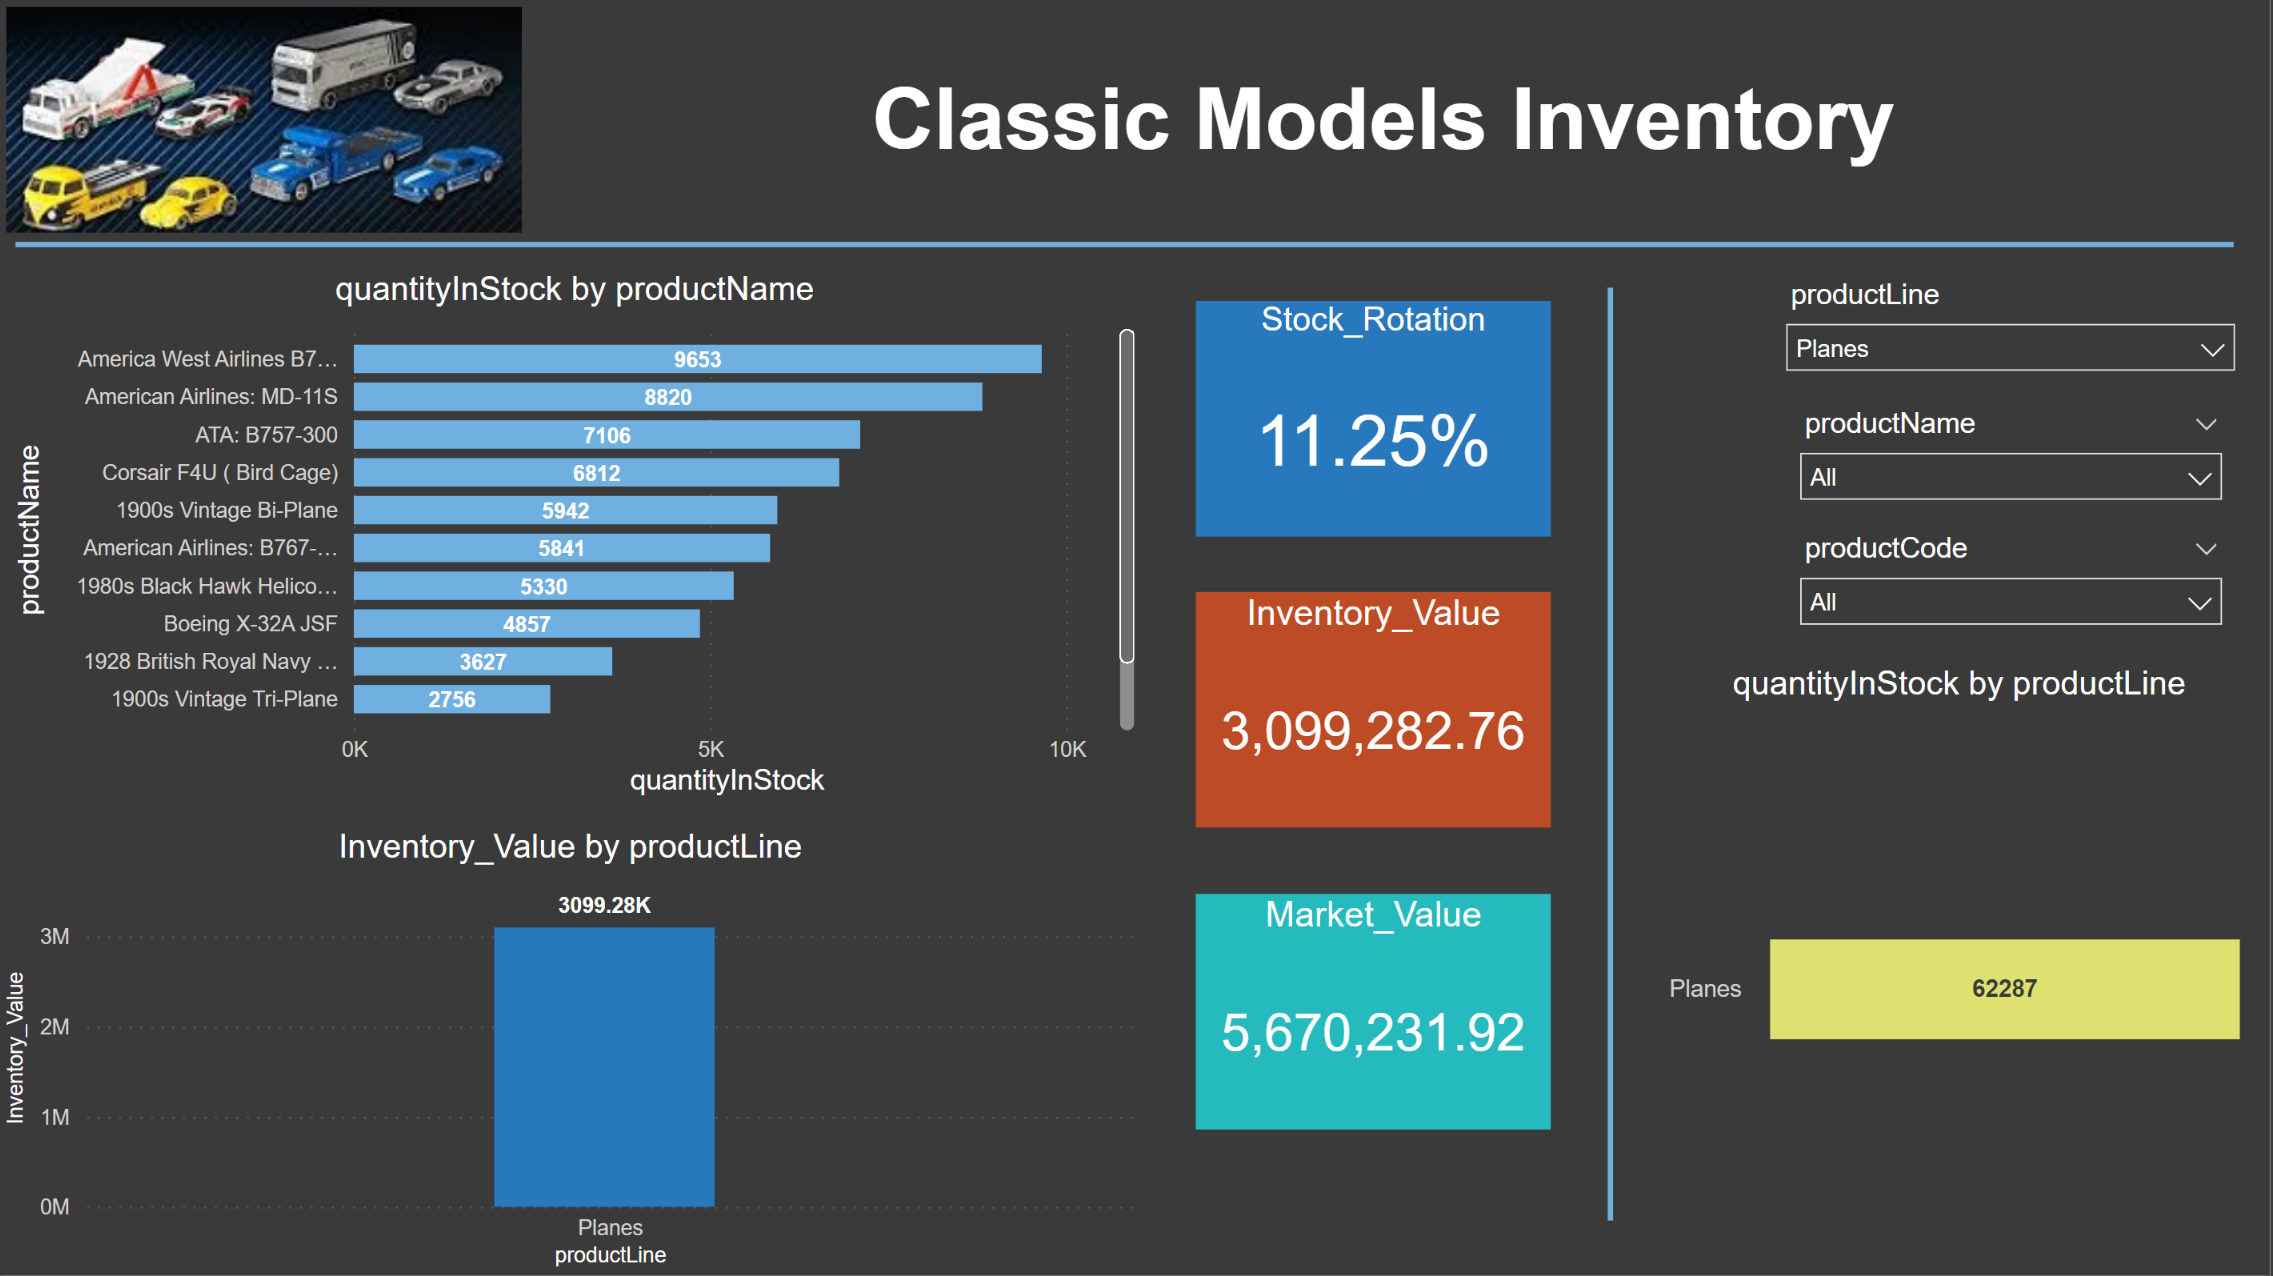

This screenshot's page, from the dashboard's own definition file:
{"tool":"powerbi","page":{"name":"Scenario1","canvas":[1280,720],"ordinal":0},"visuals":[{"type":"textbox","box":[306.3,36.6,948.2,88.3],"z":0},{"type":"image","box":[0,0,300.4,137.4],"z":1000},{"type":"funnel","fields":{"Y":["Sum(Products.quantityInStock)"],"Category":["Products.productLine"]},"box":[937.1,376.3,336.4,343.6],"z":2000},{"type":"basicShape","box":[0,125,1269.5,28.8],"z":3000},{"type":"basicShape","box":[884.7,153.8,47.8,545.8],"z":4000},{"type":"clusteredColumnChart","fields":{"Y":["Sum(Products.Value_Buy_Price)"],"Category":["Products.productLine"]},"box":[0,467.9,645.2,251.9],"z":5000},{"type":"slicer","fields":{"Values":["Products.productName"]},"box":[1005.3,226.6,258.2,63.2],"z":6000},{"type":"clusteredBarChart","fields":{"Category":["Products.productName"],"Y":["Sum(Products.quantityInStock)"]},"box":[5.2,153.8,640,301],"z":7000},{"type":"slicer","fields":{"Values":["Products.productLine"]},"box":[997.1,153.8,273.3,63.2],"z":8000},{"type":"card","title":"Stock_Rotation","fields":{"Values":["Sum(Stock_Rotation.Stock_Rotation)"]},"box":[674.7,171.5,200.2,132.8],"z":9000},{"type":"card","title":"Inventory_Value","fields":{"Values":["Sum(Products.Value_Buy_Price)"]},"box":[674.7,335.1,200.2,132.8],"z":10000},{"type":"card","title":"Market_Value","fields":{"Values":["Sum(Products.Value_MSRP)"]},"box":[674.7,505.2,200.2,132.8],"z":11000},{"type":"slicer","fields":{"Values":["Products.productCode"]},"box":[1005.3,296.7,258.2,63.2],"z":12000}]}

Visuals, with their boxes in screenshot pixels (x1, y1, x2, y2), scaled from the page's 1280x720 canvas onto the 2273x1276 screenshot:
textbox: [x1=544, y1=65, x2=2228, y2=221]
image: [x1=0, y1=0, x2=533, y2=244]
funnel - Sum(Products.quantityInStock) x Products.productLine: [x1=1664, y1=667, x2=2261, y2=1275]
basicShape: [x1=0, y1=222, x2=2254, y2=273]
basicShape: [x1=1571, y1=273, x2=1656, y2=1240]
clusteredColumnChart - Sum(Products.Value_Buy_Price) x Products.productLine: [x1=0, y1=829, x2=1146, y2=1275]
slicer - Products.productName: [x1=1785, y1=402, x2=2244, y2=514]
clusteredBarChart - Products.productName x Sum(Products.quantityInStock): [x1=9, y1=273, x2=1146, y2=806]
slicer - Products.productLine: [x1=1771, y1=273, x2=2256, y2=385]
"Stock_Rotation" card: [x1=1198, y1=304, x2=1554, y2=539]
"Inventory_Value" card: [x1=1198, y1=594, x2=1554, y2=829]
"Market_Value" card: [x1=1198, y1=895, x2=1554, y2=1131]
slicer - Products.productCode: [x1=1785, y1=526, x2=2244, y2=638]
